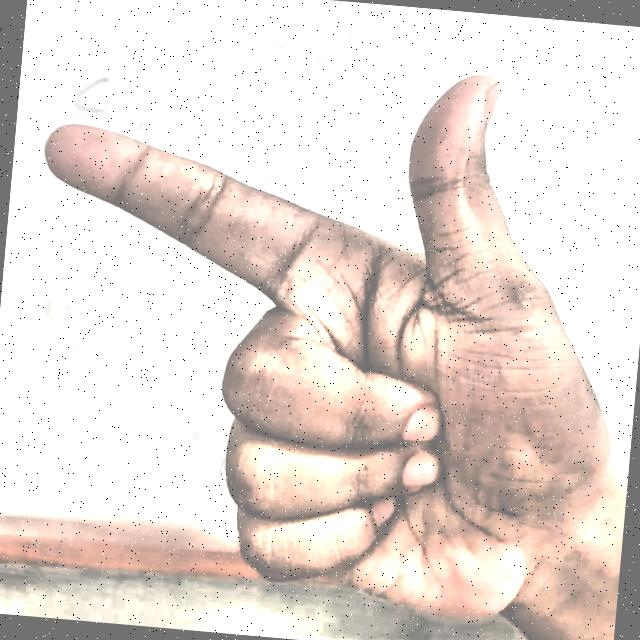Tha: (0, 22, 640, 640)
